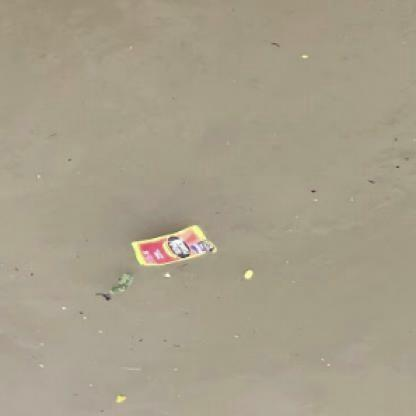Trash: (130, 223, 221, 270)
